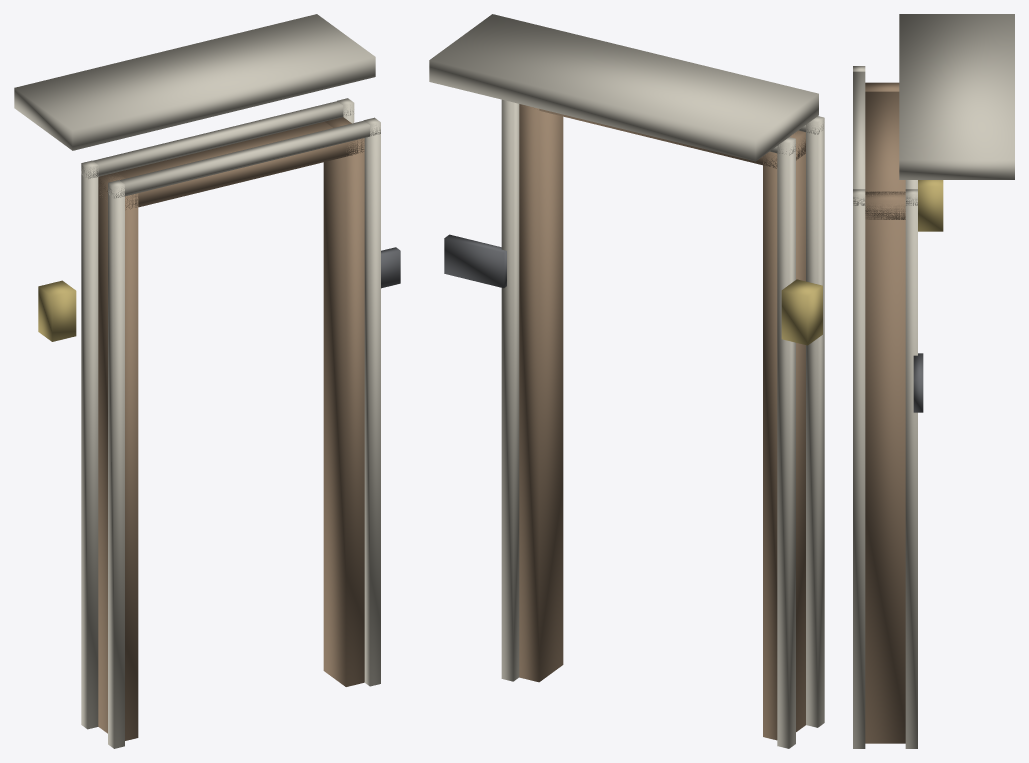
Rendered from doorway_motel_w86_h210_d16.glb.
3 renders of one model, left to right at view 1: azimuth 30°, elevation 25°; view 2: azimuth 150°, elevation 25°; view 3: azimuth 270°, elevation 25°, orthographic. The views are drawn at different scales.
Parts seen in each view (by area): view 1: world; view 2: world; view 3: world.
Boxes of the visible parts, left/top/right/bottom form: world: left=14, top=14, right=400, bottom=748; world: left=429, top=14, right=824, bottom=748; world: left=853, top=14, right=1014, bottom=748.
Size of the model in its own units: 1.44 by 2.4 by 0.5882.
